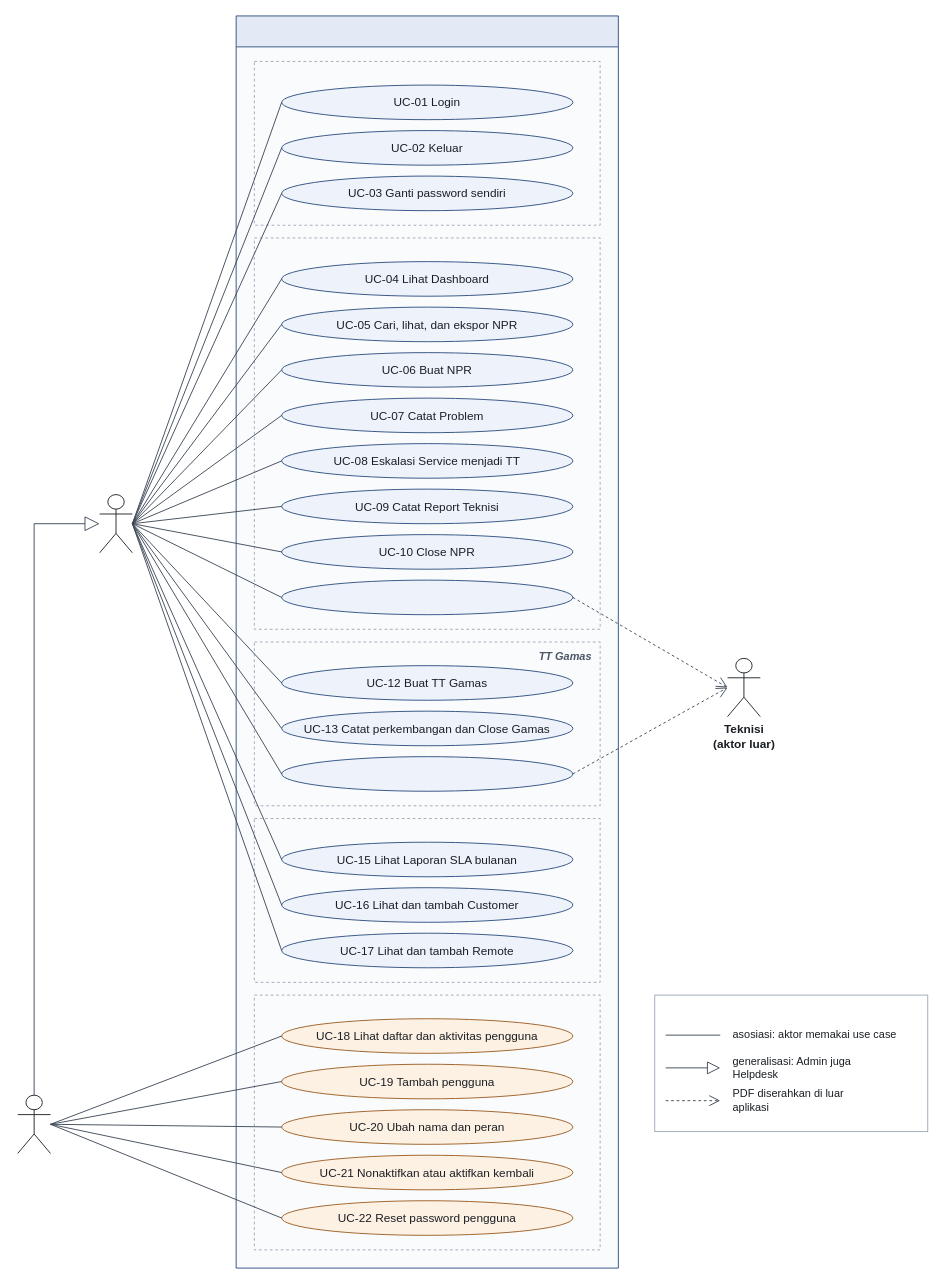
This 944x1284 diagram has some shape labels left out. Each missing label, with the box of its shape:
Admin: (17, 1094, 51, 1153)
Akun: (253, 61, 600, 225)
Helpdesk: (99, 494, 132, 553)
Keterangan: (654, 994, 928, 1132)
Khusus Admin (kelola Pengguna): (253, 994, 600, 1250)
Laporan dan data master: (253, 818, 600, 982)
NPR dan Trouble Ticket: (253, 237, 600, 629)
Sistem NPR: (235, 15, 618, 1268)
UC-11 Unduh PDF TT: (281, 579, 573, 615)
UC-14 Unduh PDF TT Gamas: (281, 756, 573, 791)
